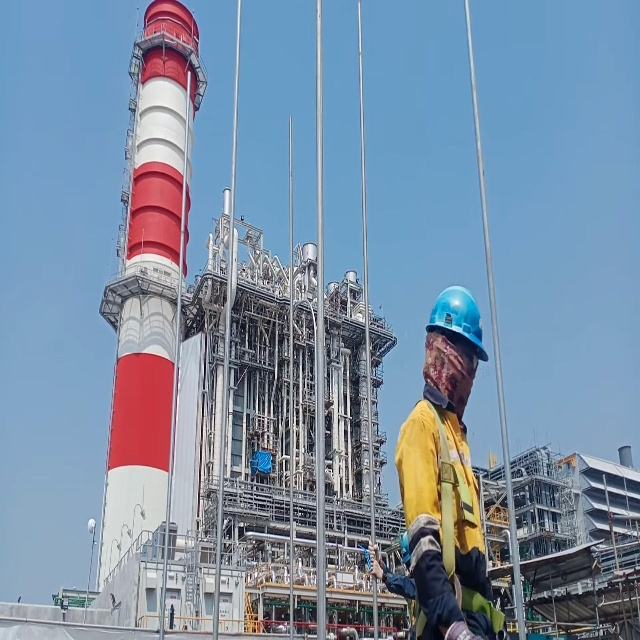Arnes_seguridad: (404, 387, 507, 640)
